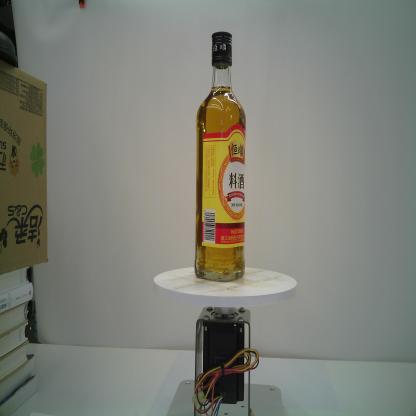Seasoner: (194, 29, 247, 282)
